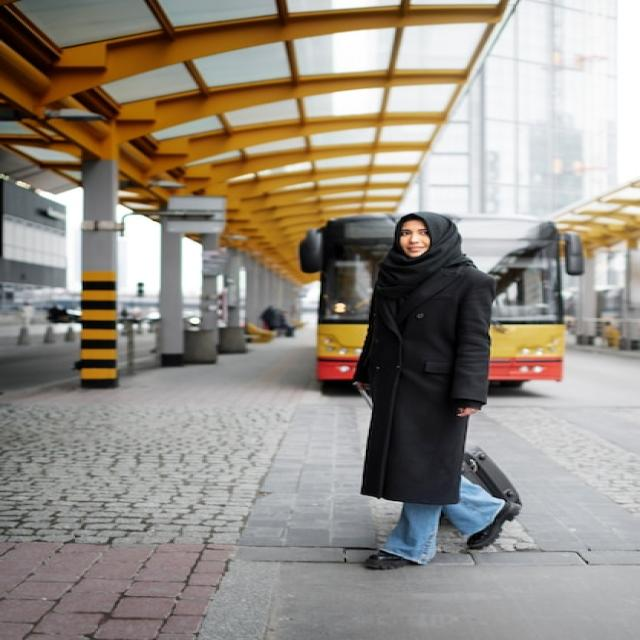Person: (354, 210, 523, 568)
